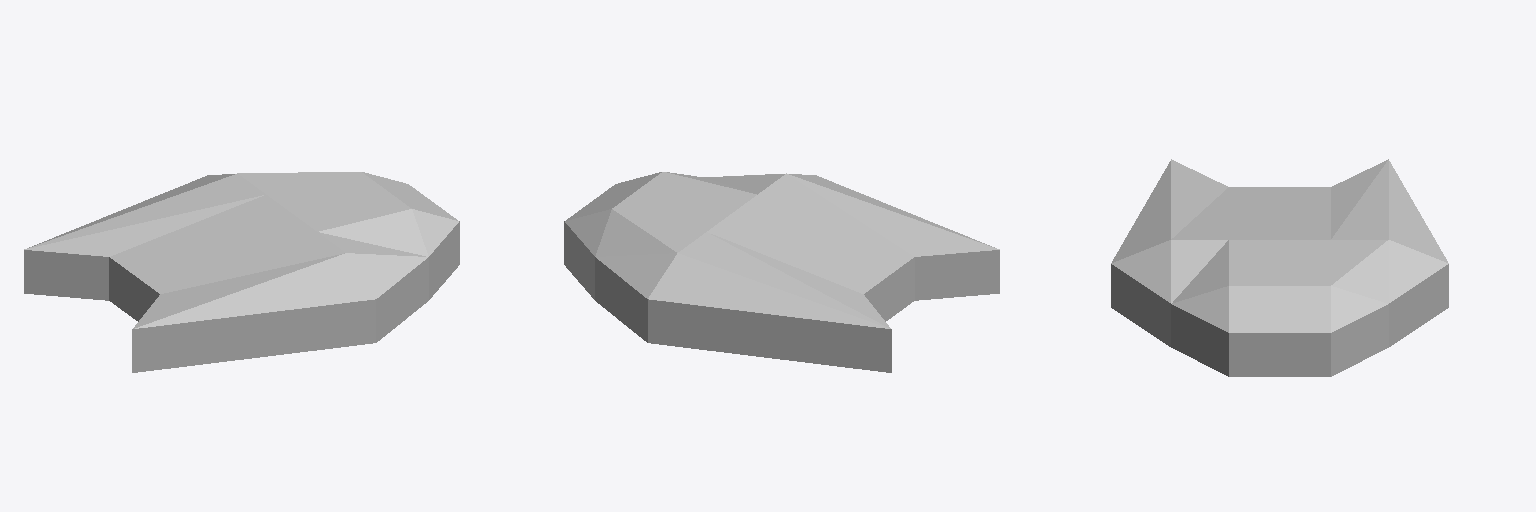
The model's file is LowestPolyShip.obj.
3 renders of one model, left to right at view 1: azimuth 30°, elevation 25°; view 2: azimuth 150°, elevation 25°; view 3: azimuth 270°, elevation 25°, orthographic.
Parts seen in each view (by area): view 1: LowestPolySpaceship_Cube; view 2: LowestPolySpaceship_Cube; view 3: LowestPolySpaceship_Cube.
Part boxes in pixels (left/top/right/bottom): LowestPolySpaceship_Cube: left=24, top=172, right=459, bottom=372; LowestPolySpaceship_Cube: left=564, top=172, right=999, bottom=372; LowestPolySpaceship_Cube: left=1111, top=159, right=1448, bottom=376.
Bounding box in the file's own units: 2 × 0.3648 × 1.65.